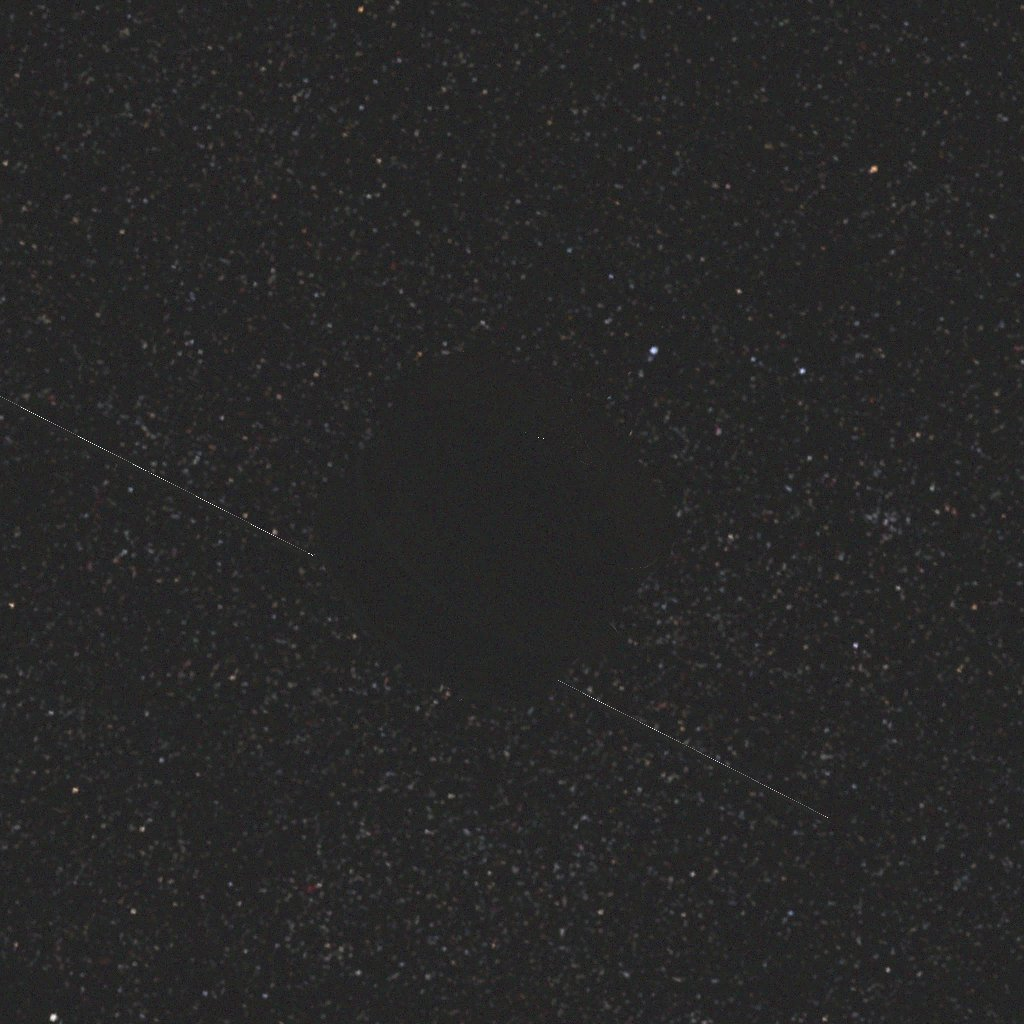double_star: (0, 233, 840, 832)
